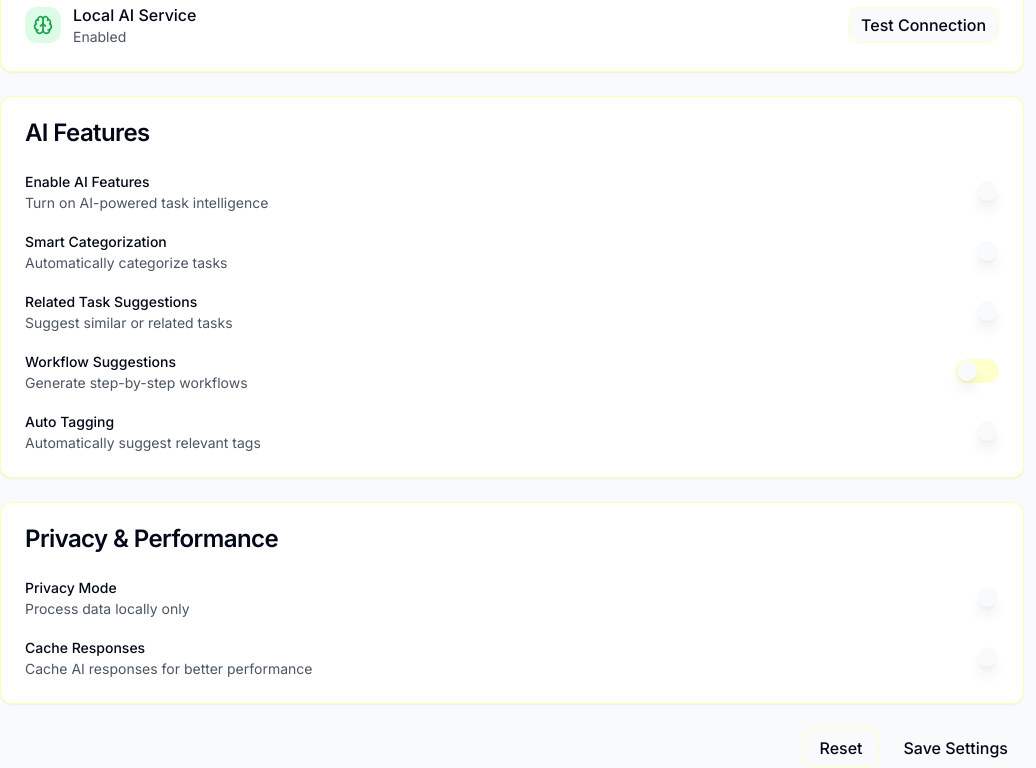
AISettings › shows loading state when saving
(page scrolled)
Click the button with test id "save-settings".
click(956, 748)  # box left=888, top=728, right=1024, bottom=767
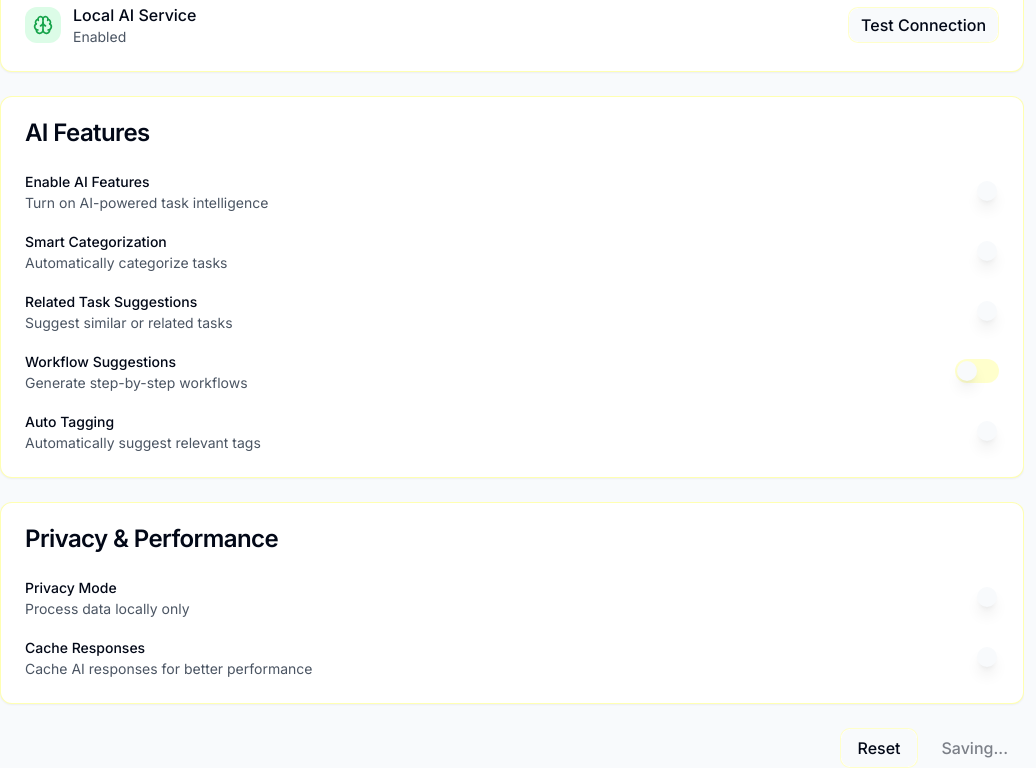
Expected: the button "Saving..." is disabled, left=926, top=728, right=1024, bottom=767
